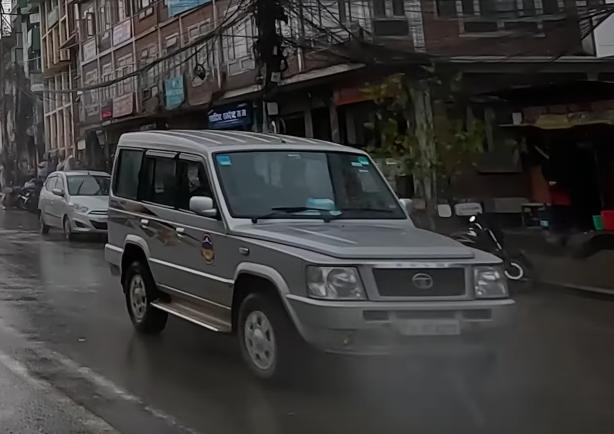SUV: (96, 118, 514, 384)
car: (35, 166, 118, 242)
